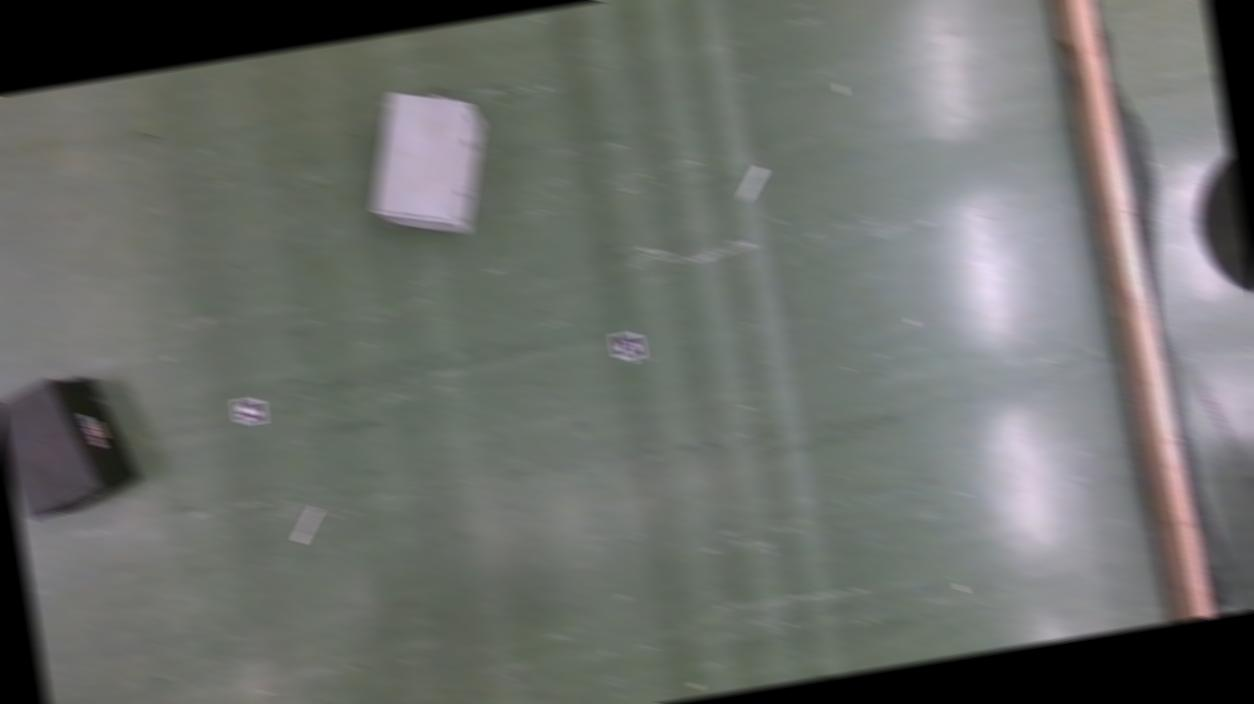probes: (288, 505, 325, 544), (734, 164, 770, 201)
rako: (350, 78, 504, 248), (0, 366, 144, 523)
